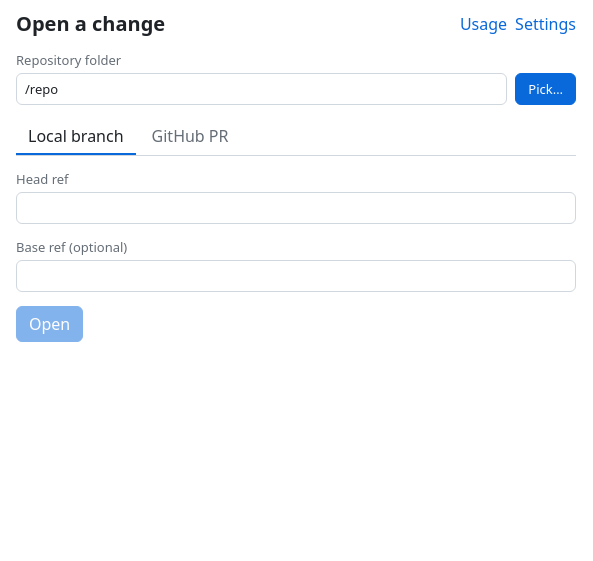
Test case: screens › returns to Open with the error when generate rejects
Type "feature" into the field labelled "Head ref" at (296, 208), box 16,192 -> 576,224
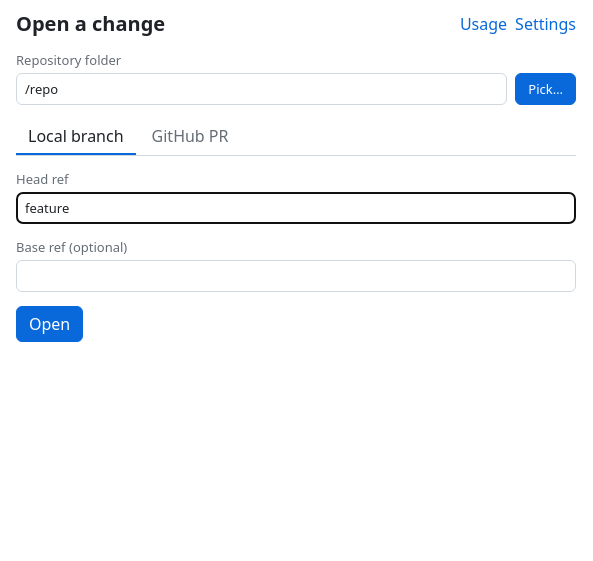
Click the button "Open" at (50, 324), box 16,306 -> 83,342
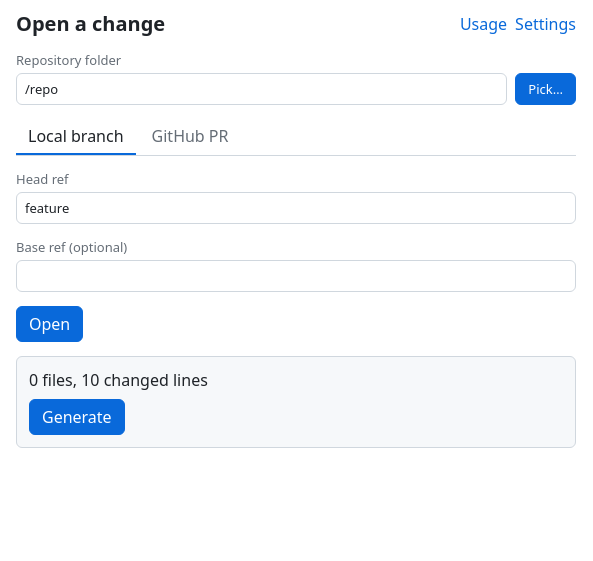
Click the button "Generate" at (77, 417), box 29,399 -> 125,435
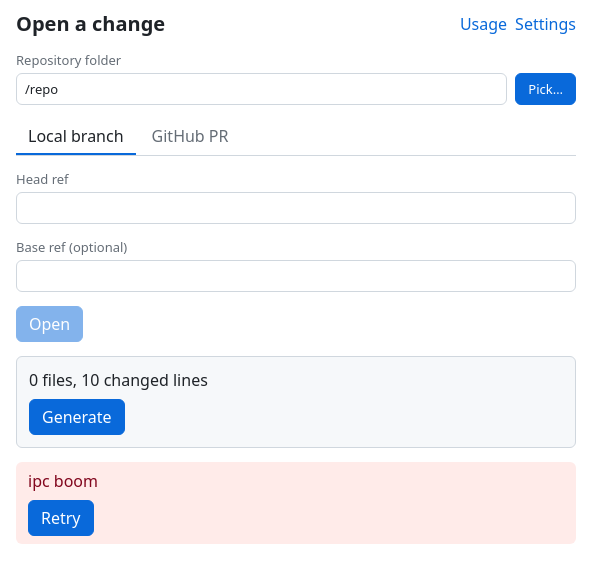
Result: the text "ipc boom" is shown at 28,470 -> 98,492
Result: the button "Retry" is shown at 28,500 -> 94,536
